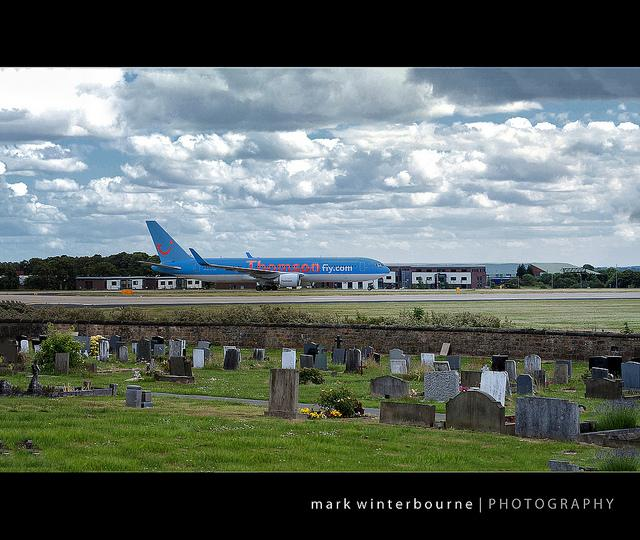airplane: (138, 221, 392, 290)
